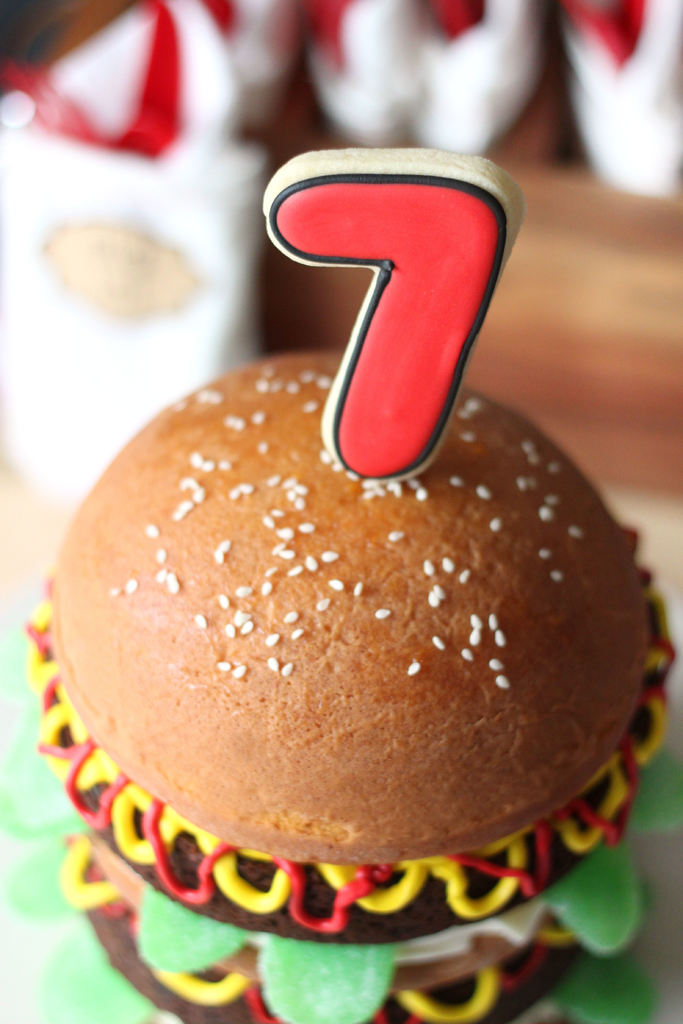Hamburger: (21, 346, 682, 1023)
